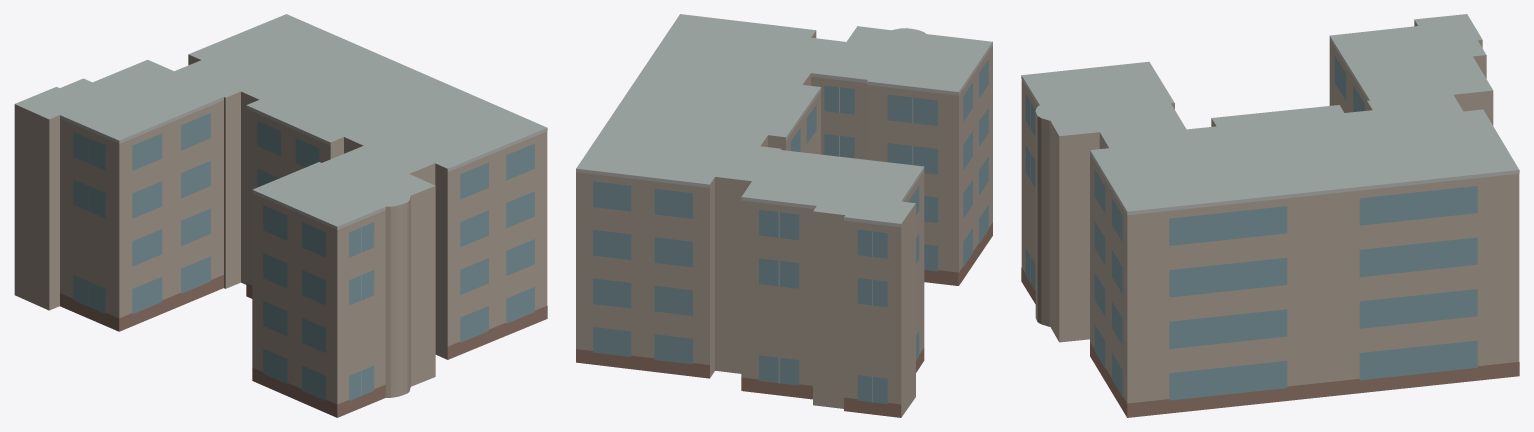
Rendered from survey-upis-32703194.glb.
3 views of the same model, side by side, from view 1: azimuth 30°, elevation 25°; view 2: azimuth 150°, elevation 25°; view 3: azimuth 270°, elevation 25° (orthographic). The views are drawn at different scales.
Visible parts, largest first — view 1: survey-upis-32703194.tmp; view 2: survey-upis-32703194.tmp; view 3: survey-upis-32703194.tmp.
Boxes of the visible parts, bbox=[...] form: survey-upis-32703194.tmp: bbox=[14, 14, 547, 417]; survey-upis-32703194.tmp: bbox=[576, 14, 992, 417]; survey-upis-32703194.tmp: bbox=[1021, 14, 1519, 417].
Size of the model in its own units: 28.07 by 13.65 by 29.88.
